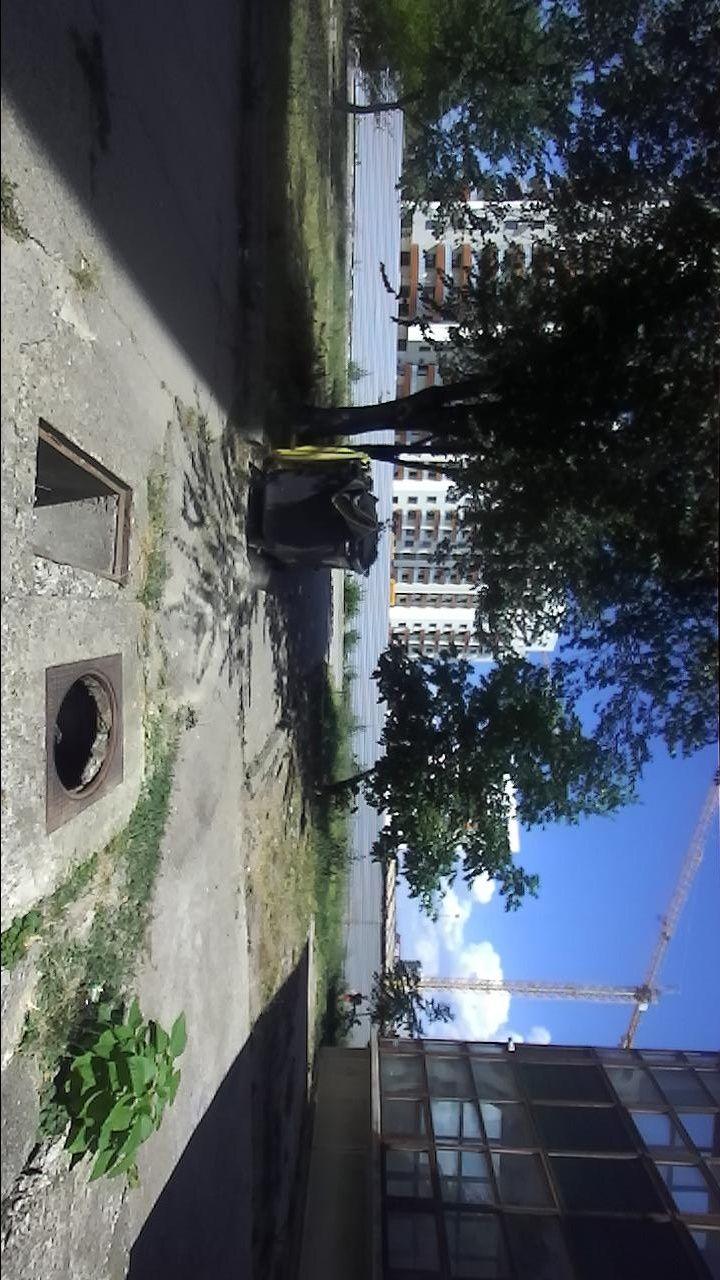drain: (32, 411, 136, 588), (46, 667, 120, 800)
